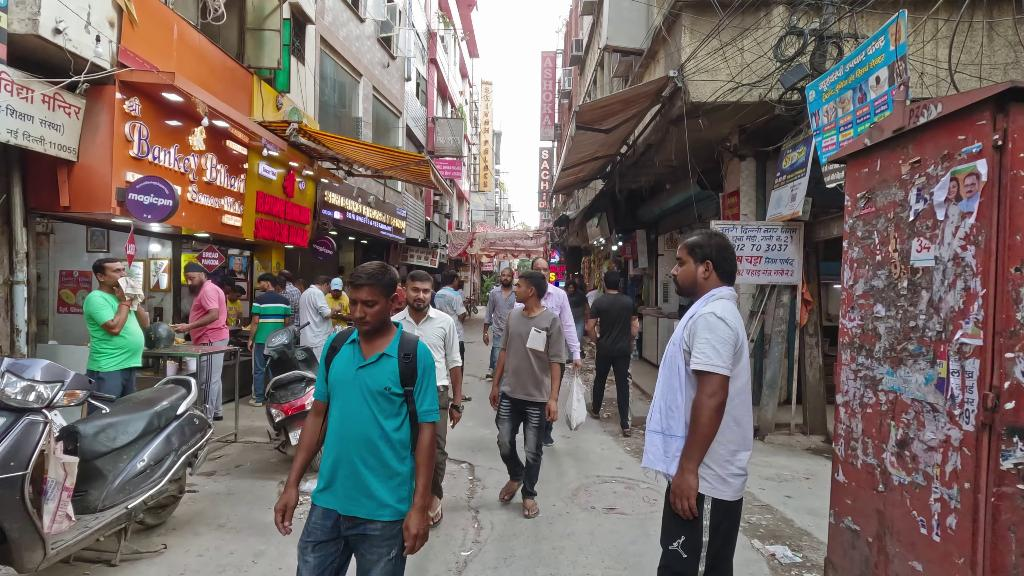garbage: (747, 536, 802, 572), (565, 367, 593, 432)
